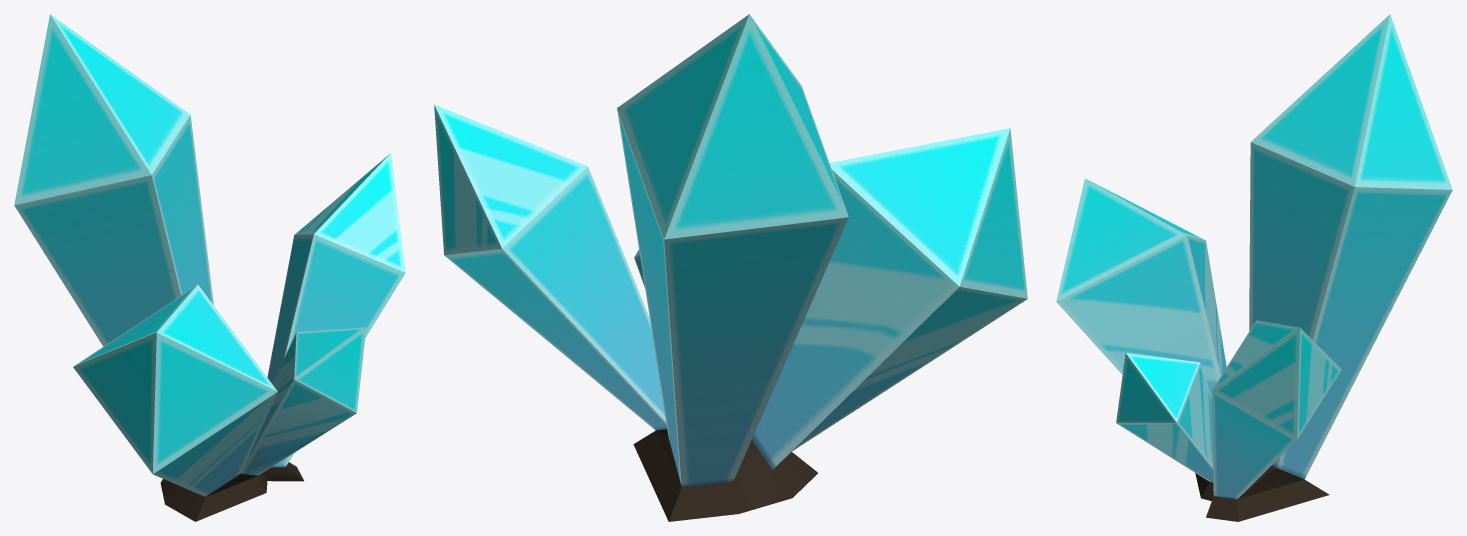
File: Crystal.fbx
The picture shows the model from 3 angles, left to right: view 1: azimuth 30°, elevation 25°; view 2: azimuth 150°, elevation 25°; view 3: azimuth 270°, elevation 25°; orthographic projection. The views are drawn at different scales.
Visible parts, largest first — view 1: Crystal01, Crystal, Crystal02; view 2: Crystal01, Crystal02, Crystal; view 3: Crystal01, Crystal, Crystal02.
Boxes of the visible parts, <box> form: Crystal01: <box>14,14,213,346</box>; Crystal: <box>160,153,405,521</box>; Crystal02: <box>73,284,277,496</box>; Crystal01: <box>617,14,848,487</box>; Crystal02: <box>752,128,1027,469</box>; Crystal: <box>434,104,817,521</box>; Crystal01: <box>1249,14,1452,479</box>; Crystal: <box>1116,320,1341,521</box>; Crystal02: <box>1056,178,1226,395</box>.
Bounding box in the file's own units: 2.8 × 3.26 × 2.69.
1 material, 1 textured.
